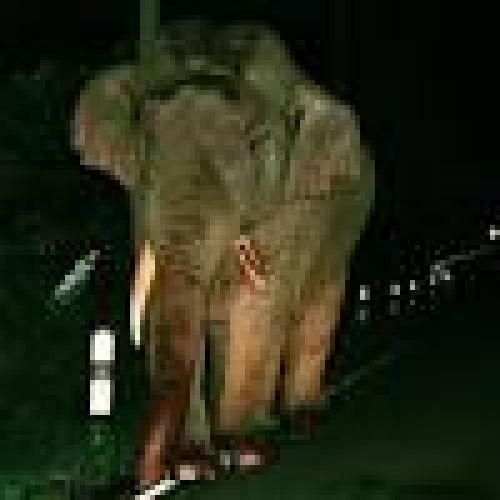asian_elephant-endangered: (72, 19, 380, 490)
